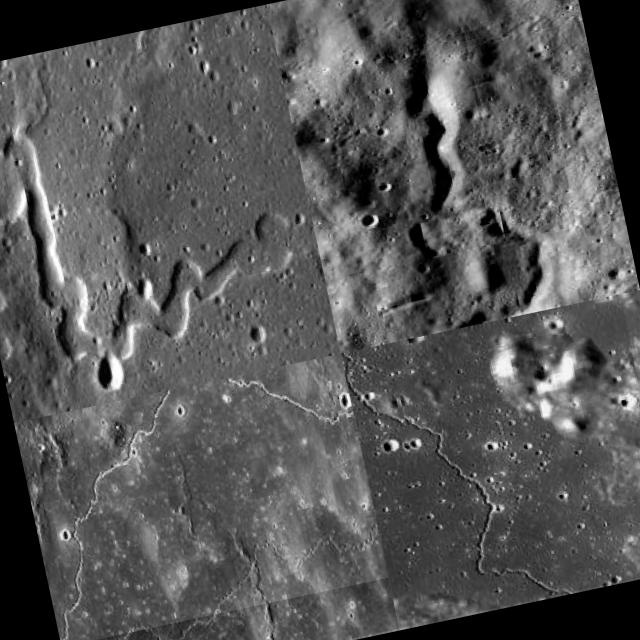crater: (0, 76, 336, 397), (16, 353, 389, 640), (343, 294, 640, 628), (325, 0, 570, 340), (50, 514, 400, 640)
